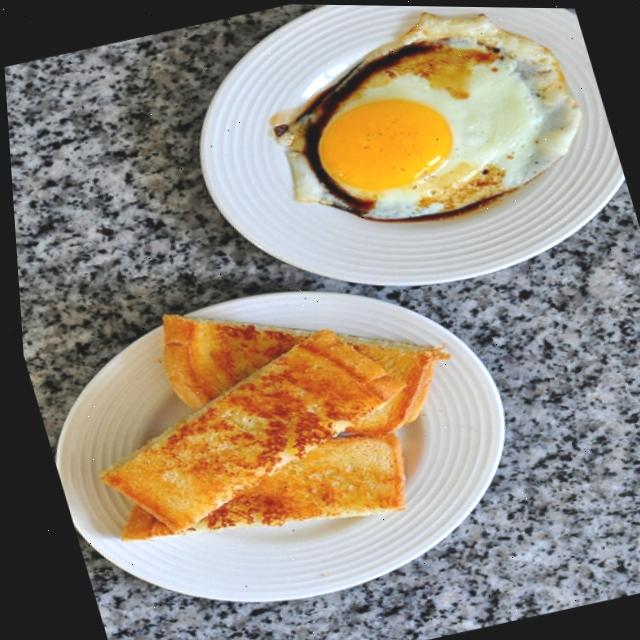面包点心: (29, 257, 521, 629)
